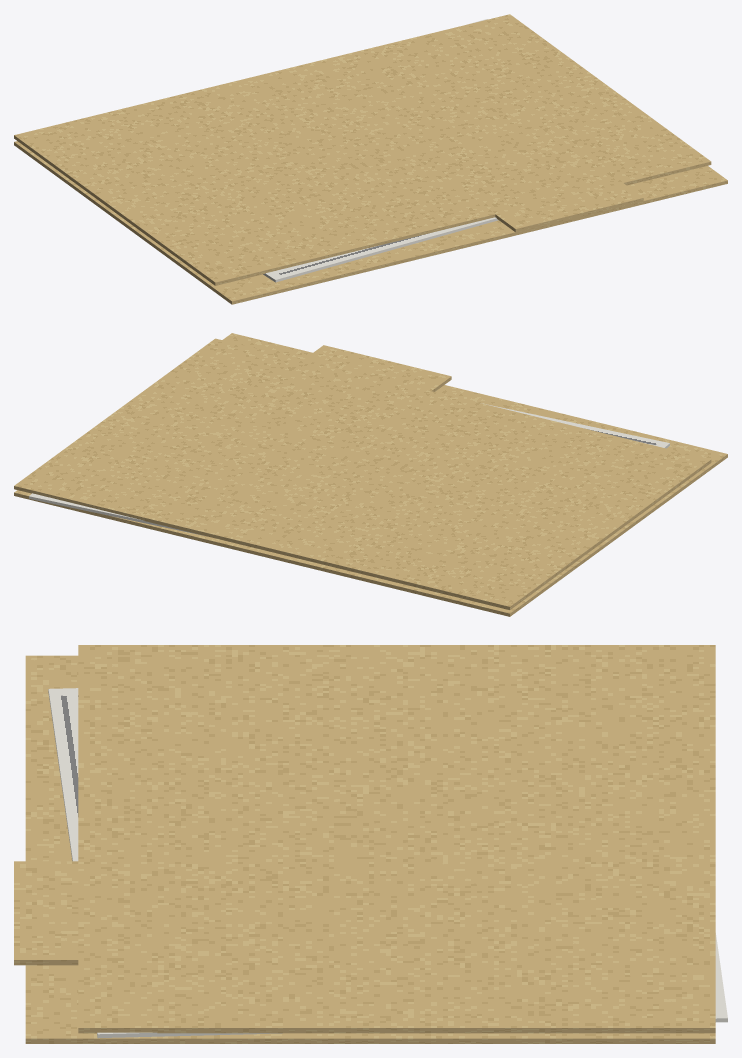
3 views of the same model, one above another, from view 1: azimuth 30°, elevation 25°; view 2: azimuth 150°, elevation 25°; view 3: azimuth 270°, elevation 25° (orthographic). The views are drawn at different scales.
Parts seen in each view (by area): view 1: block_front, block_back, block_tab, block_paper; view 2: block_front, block_back, block_tab, block_paper; view 3: block_front, block_back, block_tab, block_paper.
Boxes of the visible parts, x1,y1,x2,y2 form: block_front: [14, 14, 711, 285]; block_back: [14, 141, 727, 304]; block_tab: [495, 183, 643, 232]; block_paper: [263, 19, 498, 282]; block_front: [14, 338, 711, 609]; block_back: [14, 333, 727, 616]; block_tab: [304, 345, 451, 391]; block_paper: [29, 403, 669, 535]; block_front: [78, 645, 715, 1033]; block_back: [25, 655, 715, 1043]; block_tab: [14, 861, 78, 965]; block_paper: [48, 688, 727, 1038].
Bounding box in the file's own units: 0.3112 × 0.006 × 0.2442.
1 material, 1 textured.
